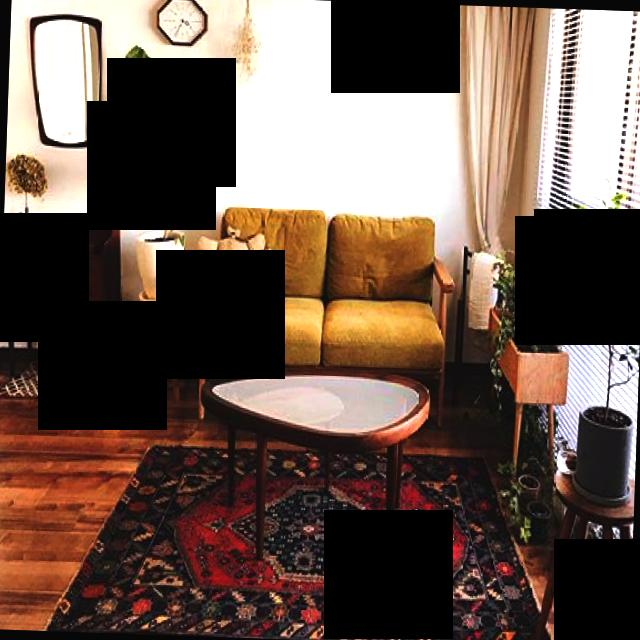vintage desk: (192, 371, 446, 582)
vintage shelf: (0, 200, 129, 399)
vintage sofa: (189, 199, 460, 380)
